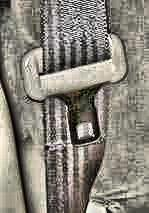seatbelt: (26, 4, 119, 192)
